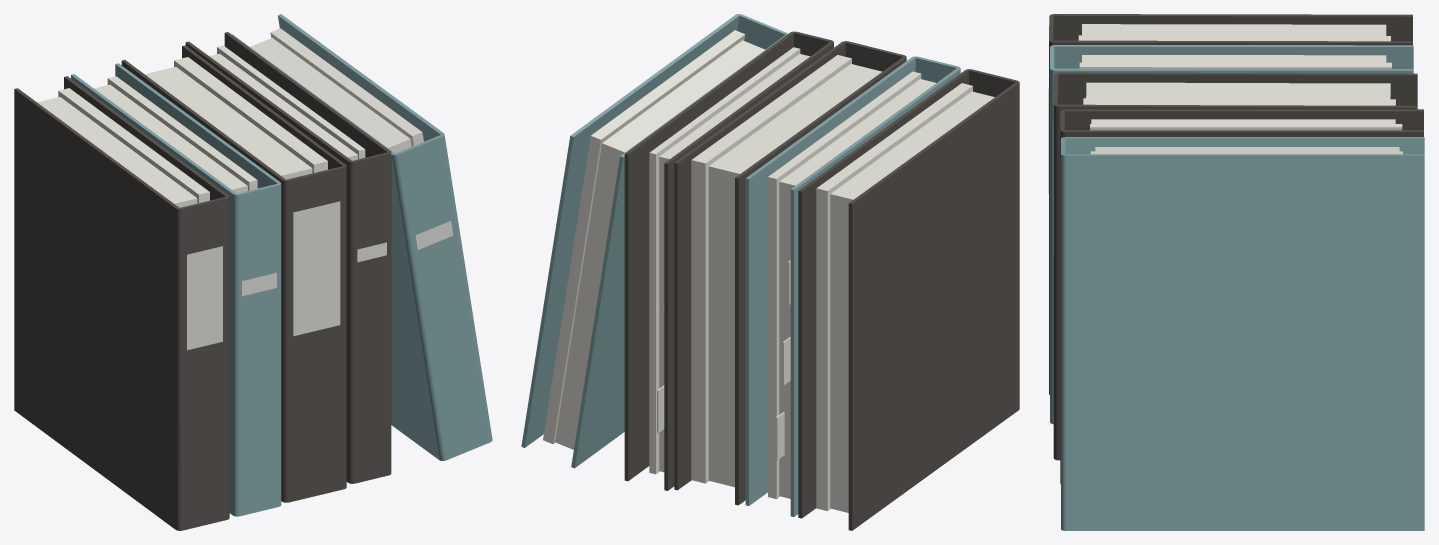
Rendered from Kit_Binders.fbx.
3 renders of one model, left to right at view 1: azimuth 30°, elevation 25°; view 2: azimuth 150°, elevation 25°; view 3: azimuth 270°, elevation 25°, orthographic. The views are drawn at different scales.
Parts seen in each view (by area): view 1: Kit_Binders; view 2: Kit_Binders; view 3: Kit_Binders.
Boxes of the visible parts, bbox=[...] form: Kit_Binders: bbox=[14, 14, 492, 530]; Kit_Binders: bbox=[521, 14, 1019, 530]; Kit_Binders: bbox=[1048, 14, 1424, 530].
Bounding box in the file's own units: 0.3034 × 0.2943 × 0.2792.
